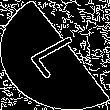L_NE: (20, 28, 90, 82)
